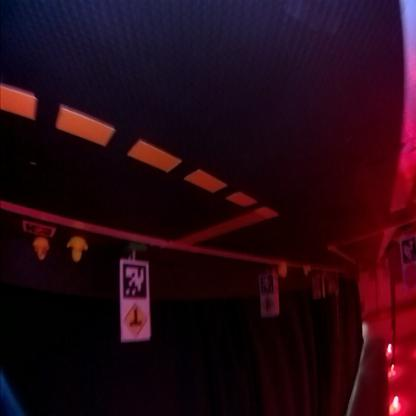Duckie: (68, 239, 88, 263), (33, 238, 50, 260)
Intersection sign: (123, 304, 147, 338), (262, 299, 276, 317)
QR code: (122, 266, 148, 300), (22, 222, 56, 238), (260, 274, 274, 296)
